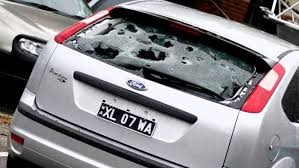Broken-glass: (71, 15, 242, 100)
